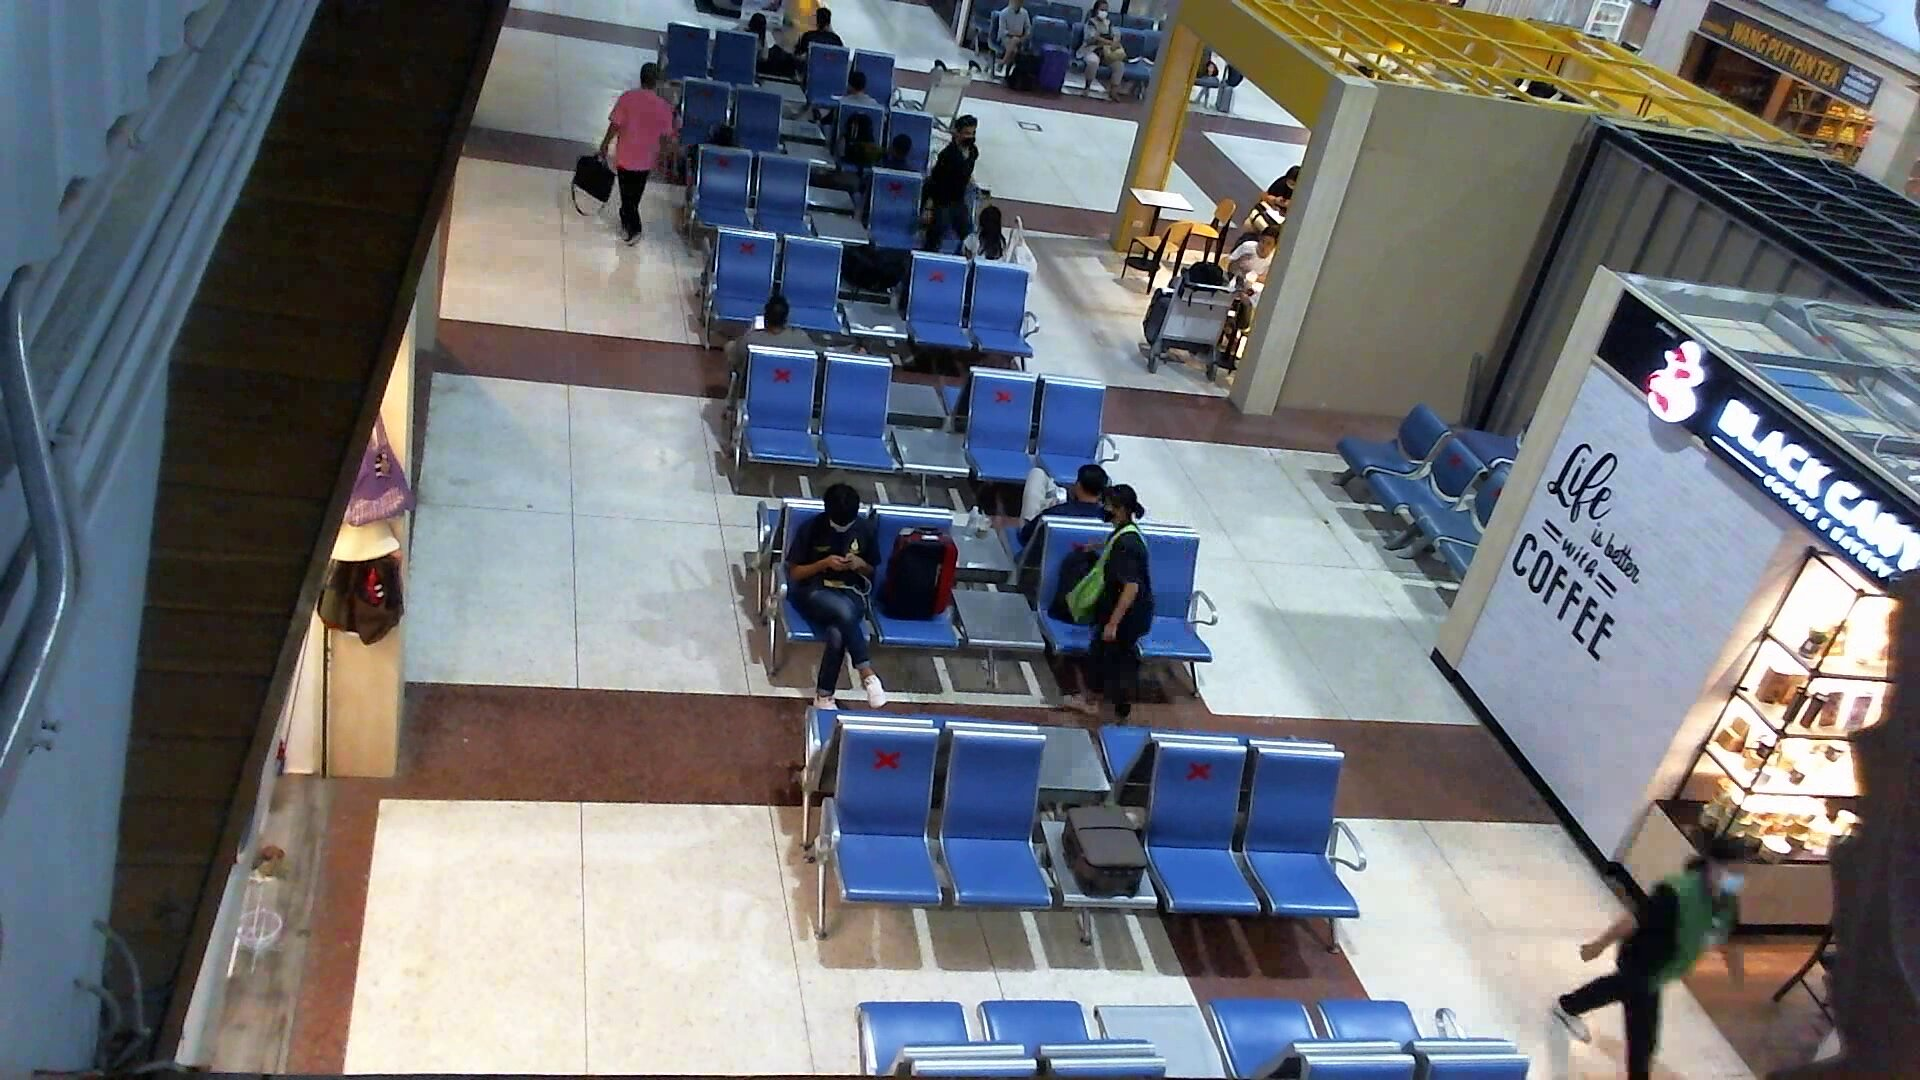backpack: (1051, 539, 1115, 631)
bag: (339, 399, 423, 531), (567, 146, 628, 220)
luggage: (1057, 799, 1158, 907), (874, 520, 967, 625)
people: (1549, 821, 1755, 1080), (775, 475, 896, 723), (1058, 482, 1161, 734), (590, 54, 691, 246), (915, 110, 994, 266), (1010, 460, 1126, 547), (725, 296, 826, 386), (958, 205, 1013, 281)
